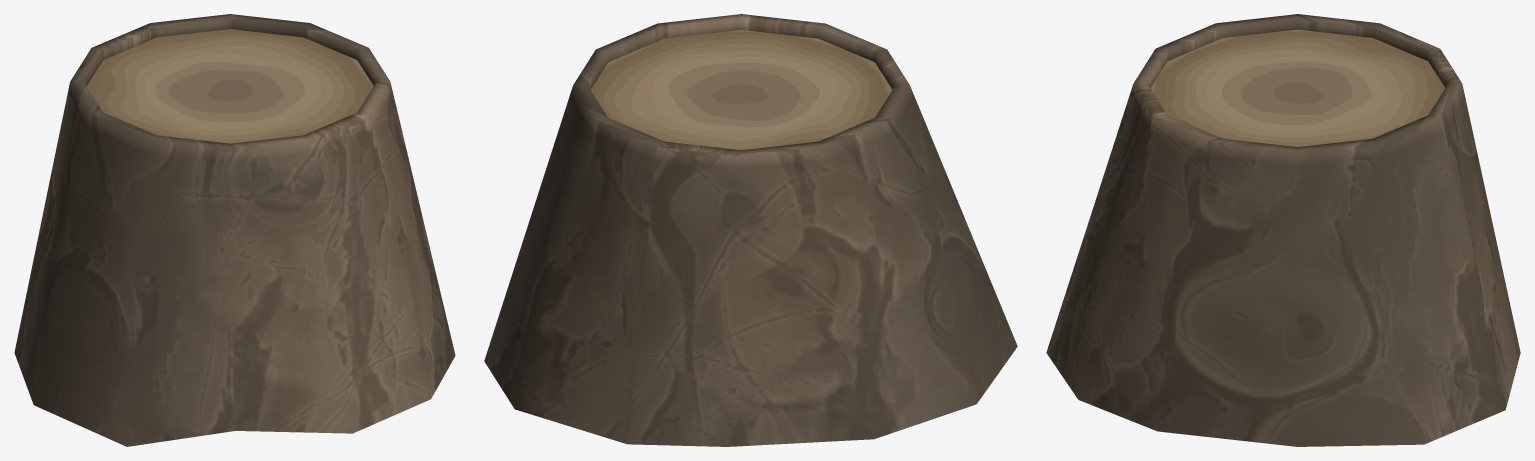
File: tree05_trunk.fbx
The picture shows the model from 3 angles, left to right: view 1: azimuth 30°, elevation 25°; view 2: azimuth 150°, elevation 25°; view 3: azimuth 270°, elevation 25°; orthographic projection. The views are drawn at different scales.
Visible parts, largest first — view 1: Cylinder.021; view 2: Cylinder.021; view 3: Cylinder.021.
Boxes of the visible parts, bbox=[...] form: Cylinder.021: bbox=[14, 14, 455, 446]; Cylinder.021: bbox=[484, 14, 1017, 446]; Cylinder.021: bbox=[1046, 14, 1520, 446].
Size of the model in its own units: 61.41 by 38.67 by 61.72.
